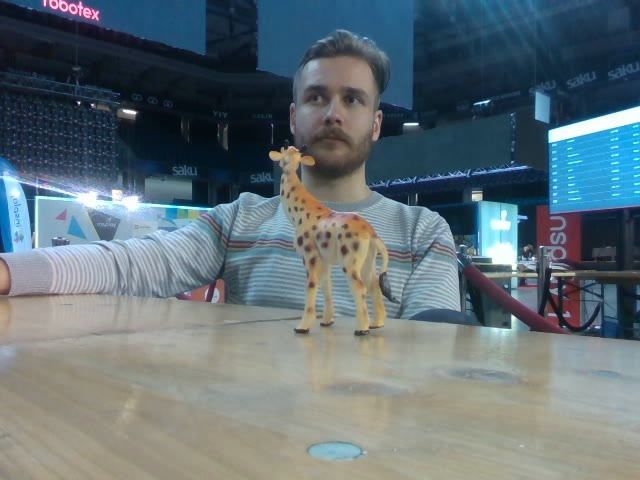toy: (267, 141, 399, 335)
